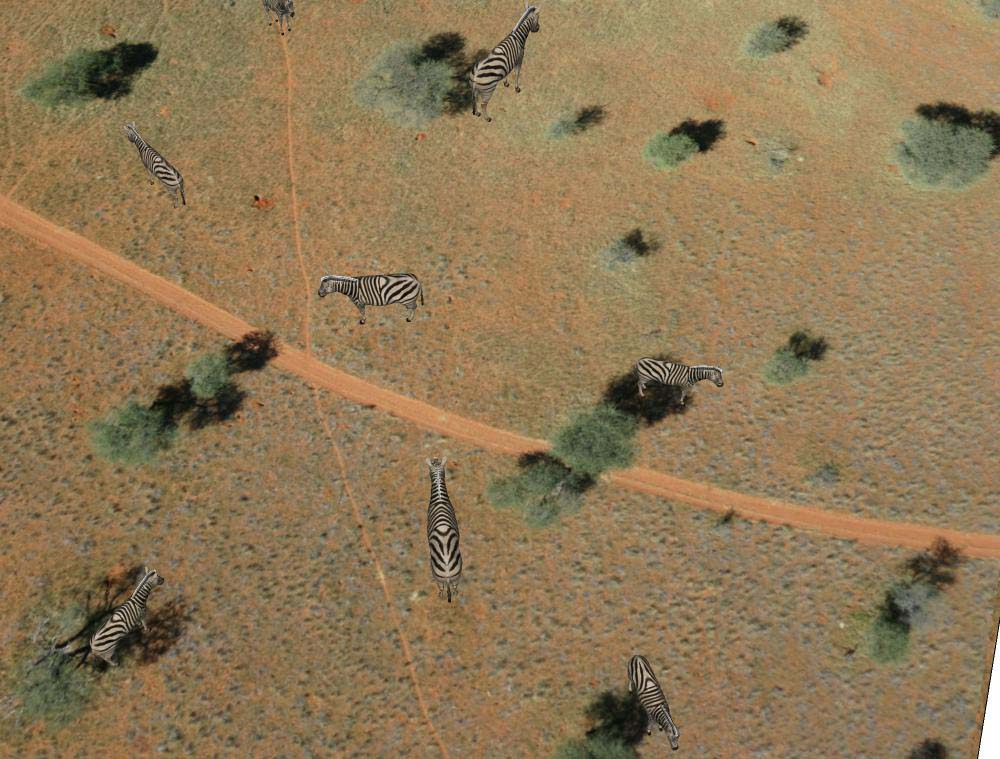zebra: (85, 567, 166, 672), (471, 7, 536, 124), (315, 262, 431, 326), (420, 458, 472, 600), (117, 121, 196, 207), (625, 650, 683, 756), (634, 351, 728, 416)
